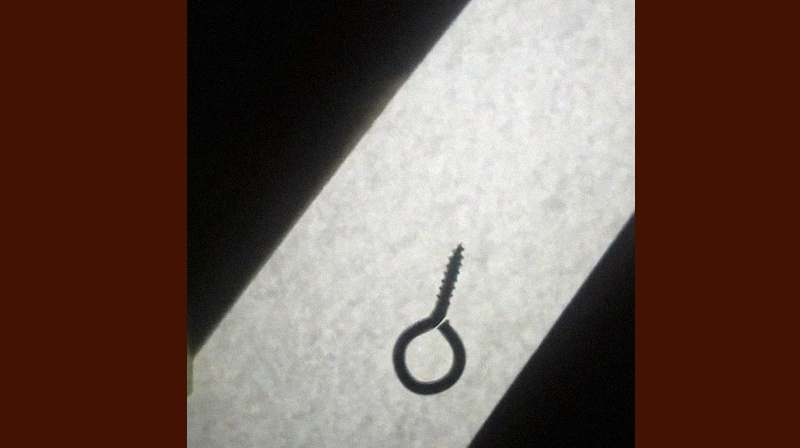O001: (388, 240, 468, 398)
